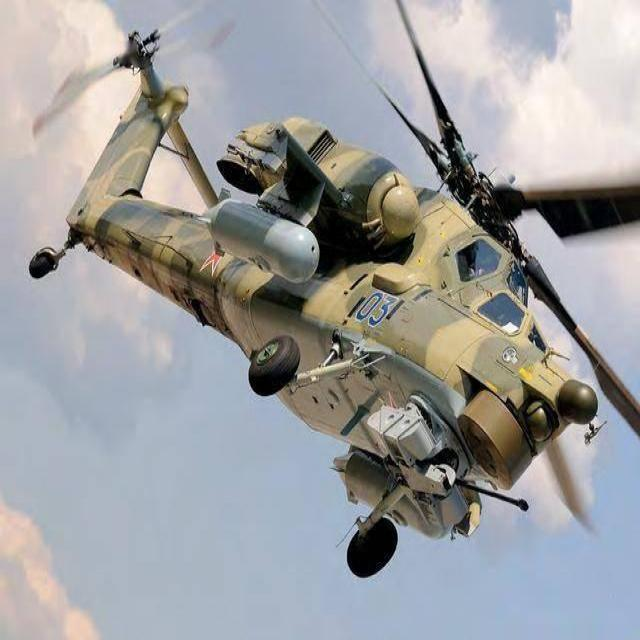MIL_HELO: (20, 4, 640, 582)
